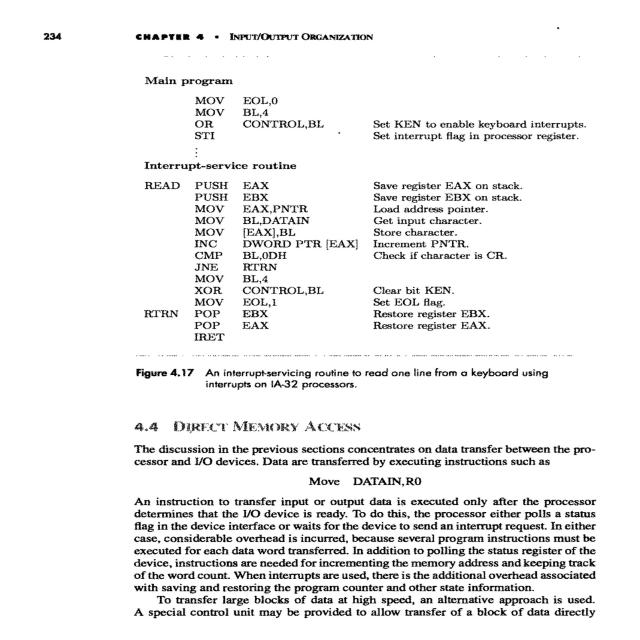diagram: (125, 65, 640, 399)
